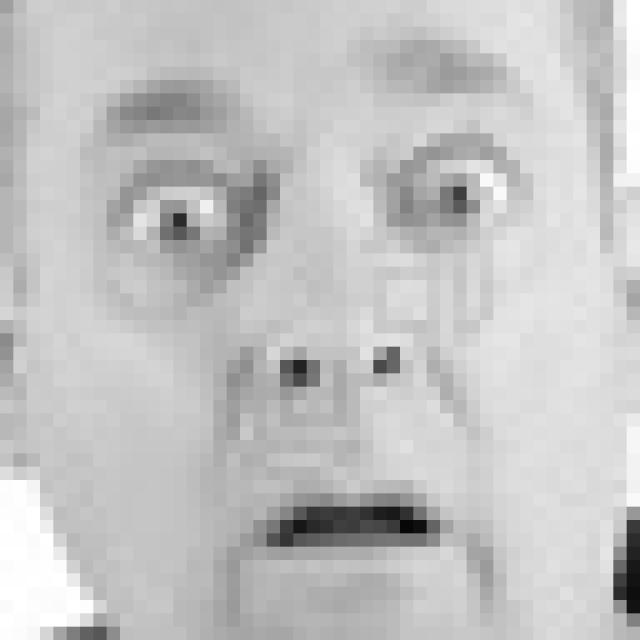surprise: (79, 40, 564, 574)
